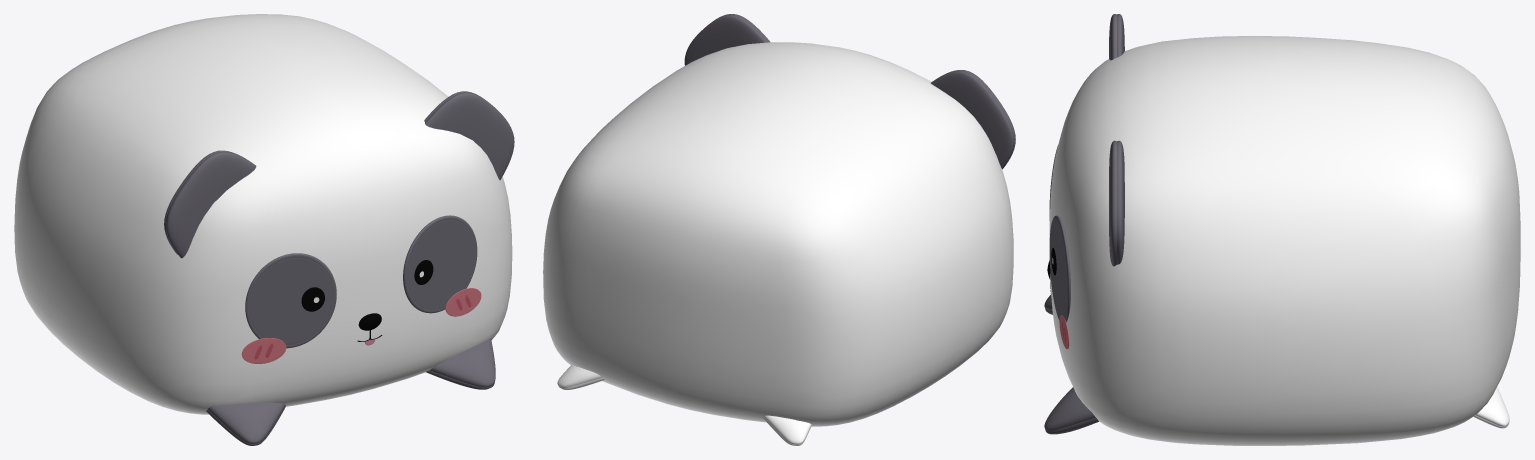
Rendered from panda.glb.
3 renders of one model, left to right at view 1: azimuth 30°, elevation 25°; view 2: azimuth 150°, elevation 25°; view 3: azimuth 270°, elevation 25°, orthographic. The views are drawn at different scales.
Parts seen in each view (by area): view 1: body, eye, ear, front-leg, pinkface, eyeball; view 2: body, ear, back-leg; view 3: body, ear, eye, front-leg, back-leg.
Part boxes in pixels (bbox=[...]): body: bbox=[14, 14, 512, 414]; eye: bbox=[245, 215, 477, 348]; ear: bbox=[164, 91, 514, 258]; front-leg: bbox=[206, 338, 495, 445]; pinkface: bbox=[241, 288, 481, 363]; eyeball: bbox=[301, 260, 433, 311]; body: bbox=[543, 42, 1013, 426]; ear: bbox=[684, 14, 1015, 169]; back-leg: bbox=[557, 365, 811, 445]; body: bbox=[1049, 36, 1520, 445]; ear: bbox=[1109, 14, 1124, 266]; eye: bbox=[1049, 146, 1070, 322]; front-leg: bbox=[1044, 295, 1098, 434]; back-leg: bbox=[1473, 387, 1509, 428].
Size of the model in its own units: 0.8784 by 0.6052 by 0.8475.
1 material, 1 textured.
